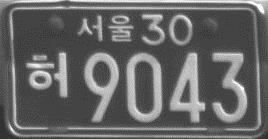0: (126, 51, 164, 123), (168, 12, 195, 48)
3: (208, 51, 249, 126), (139, 11, 166, 47)
4: (168, 49, 206, 122)
9: (82, 50, 120, 126)
서울_O: (76, 12, 136, 44)
허: (25, 49, 71, 99)
